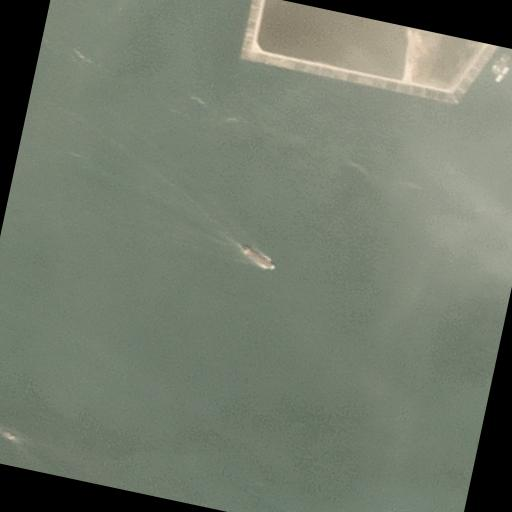ship: (232, 240, 280, 272), (0, 421, 18, 441)
